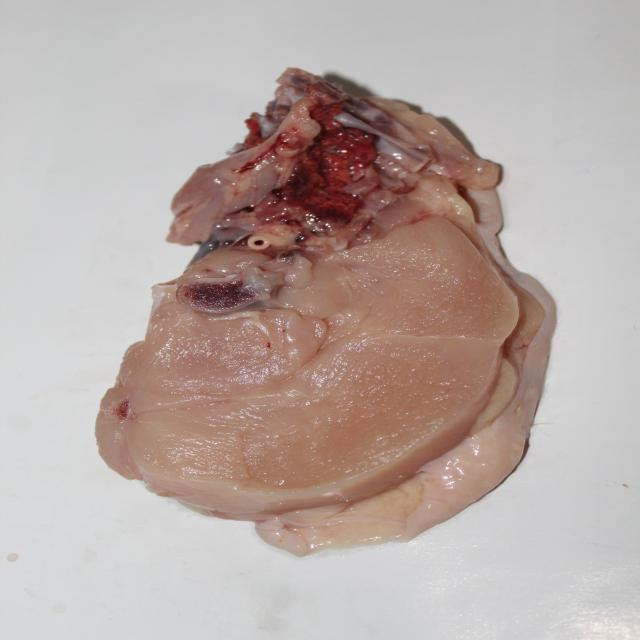Ayam: (95, 67, 559, 545)
